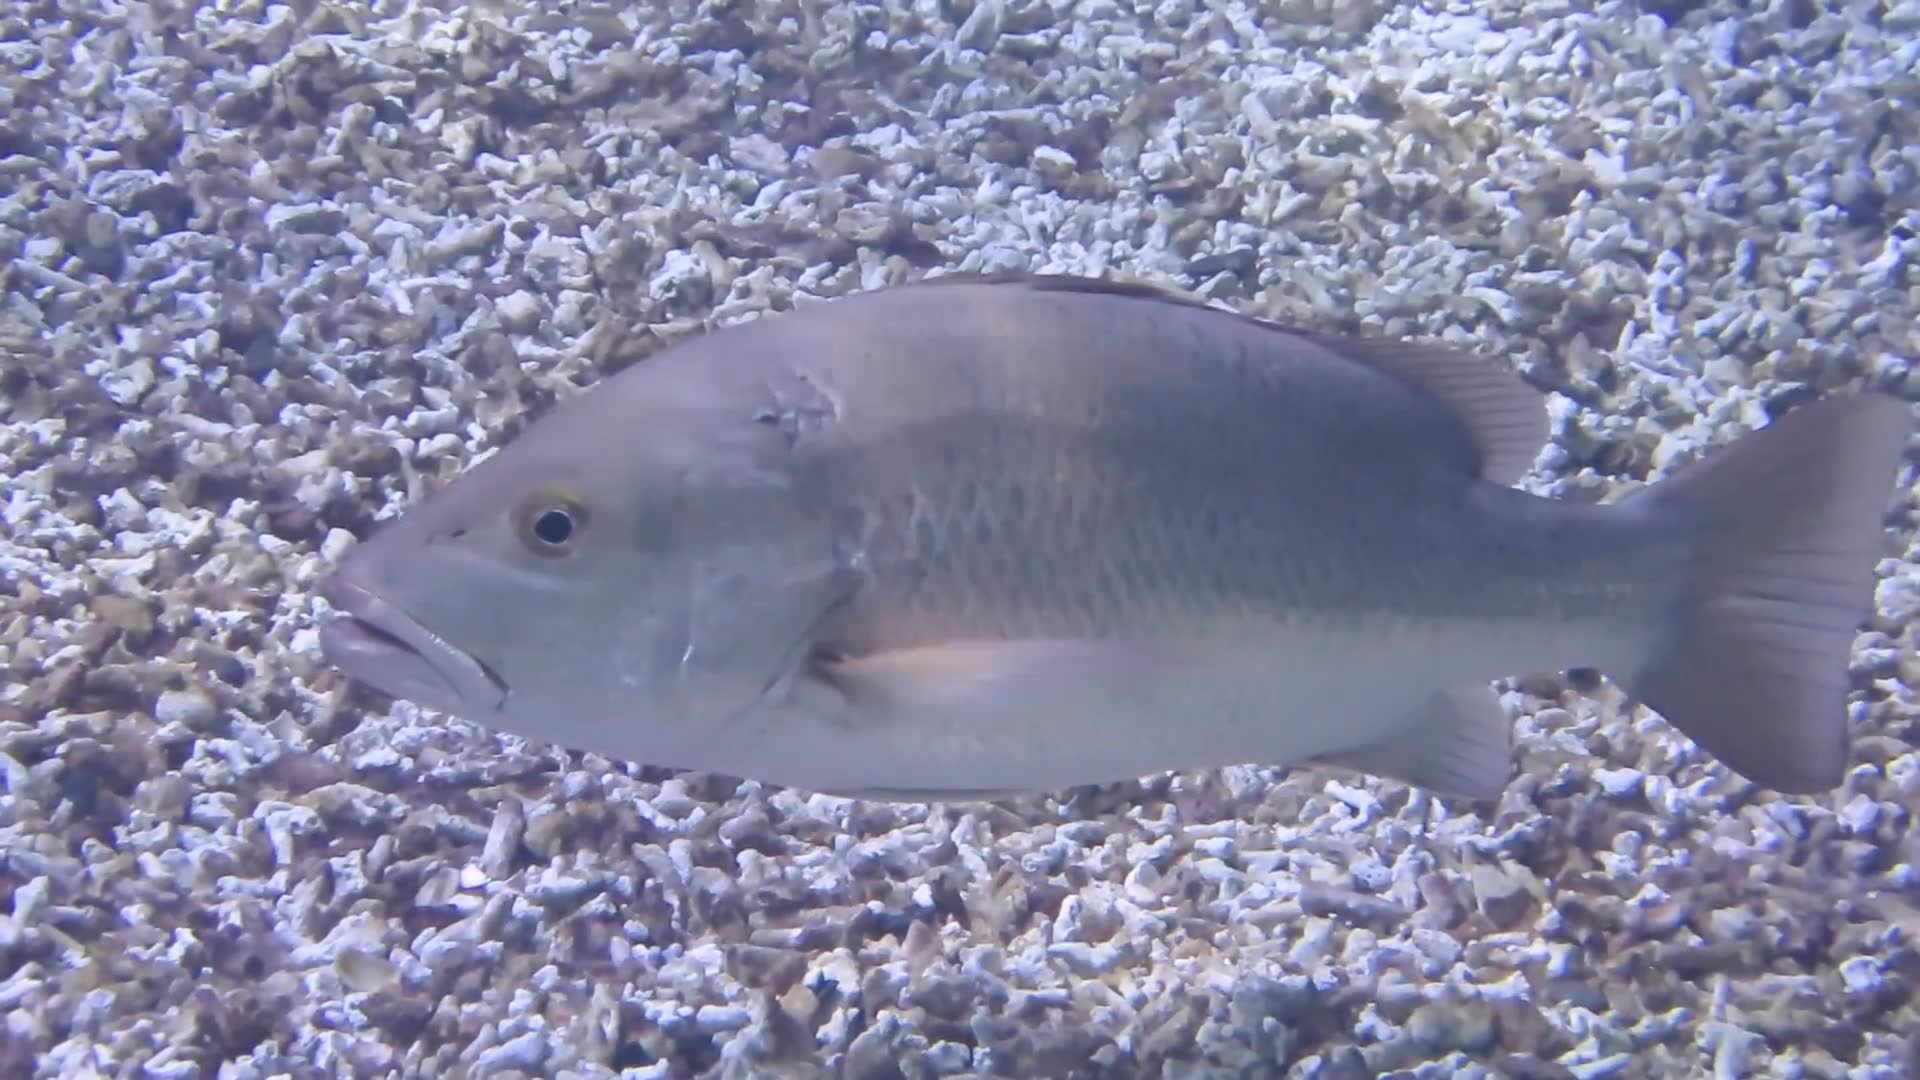Lutjanus argentimaculatus: (326, 266, 1832, 831)
